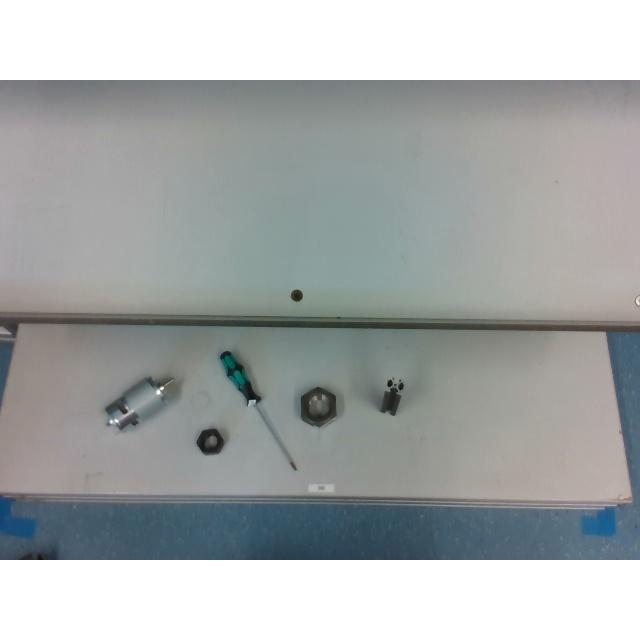F20_20_B: (379, 378, 403, 414)
M20: (196, 428, 224, 454)
M30: (301, 386, 335, 426)
Motor2: (104, 374, 178, 430)
Screwdriver: (220, 350, 296, 470)
